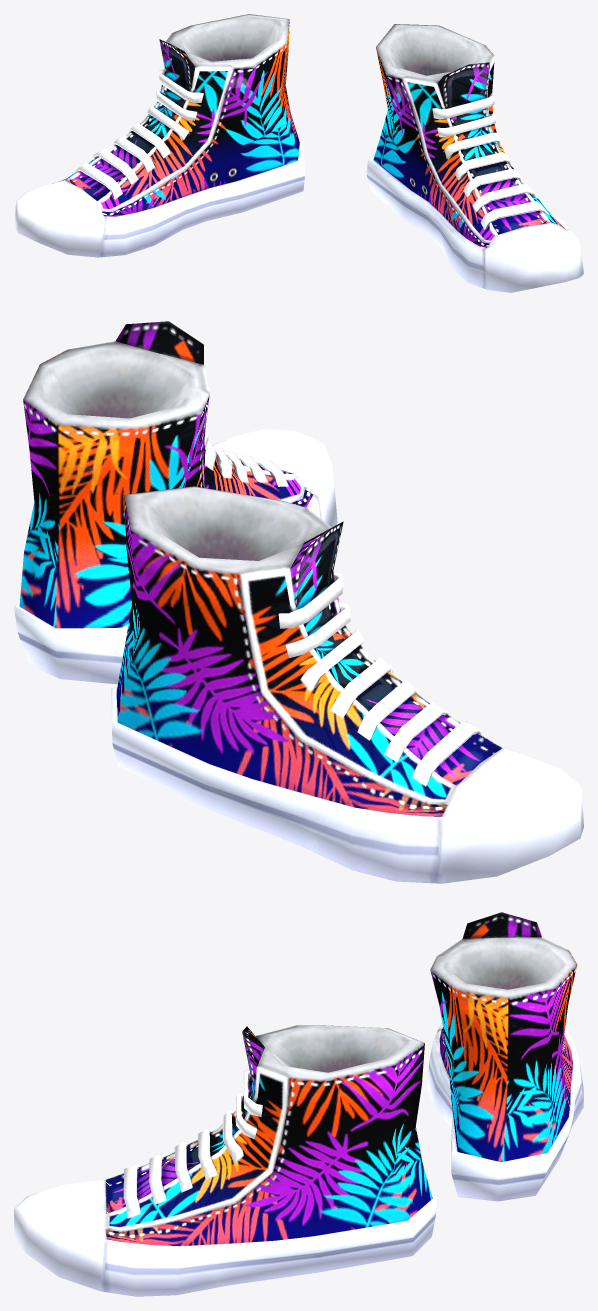
The model's file is jungle-techno-feet.gltf.
3 renders of one model, top to bottom at view 1: azimuth 30°, elevation 25°; view 2: azimuth 150°, elevation 25°; view 3: azimuth 270°, elevation 25°, orthographic. The views are drawn at different scales.
Visible parts, largest first — view 1: jungle-techno-feet; view 2: jungle-techno-feet; view 3: jungle-techno-feet.
Boxes of the visible parts, bbox=[...] form: jungle-techno-feet: bbox=[14, 14, 583, 292]; jungle-techno-feet: bbox=[14, 321, 583, 883]; jungle-techno-feet: bbox=[14, 912, 583, 1296].
Bounding box in the file's own units: 1.14 × 0.4719 × 1.06.
1 material, 1 textured.
